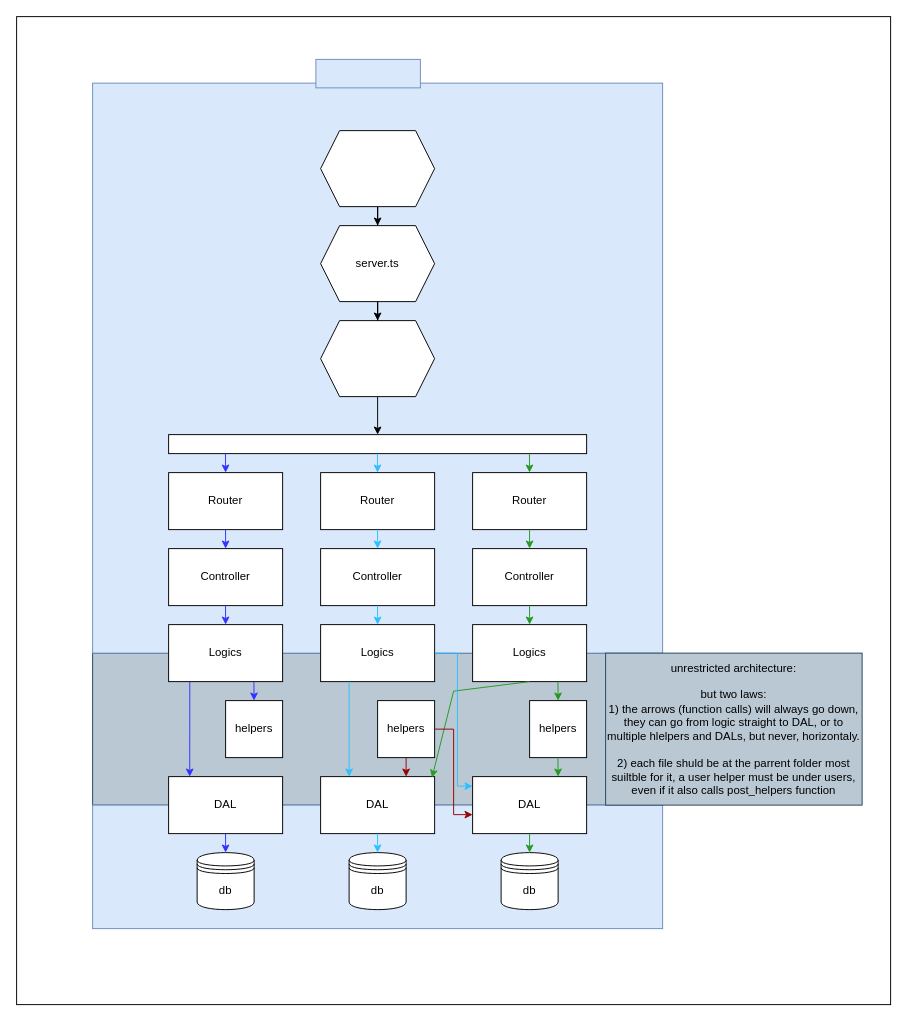
Some shapes in this 907 by 1021 pixel diagram are drawn without their labels. The centre of each missing label's shape, as x and y in pixels:
"app.ts" goes at pixel 377 358.
"index.ts" goes at pixel 377 168.
"main router" goes at pixel 377 444.
"strict architecture" goes at pixel 367 73.
